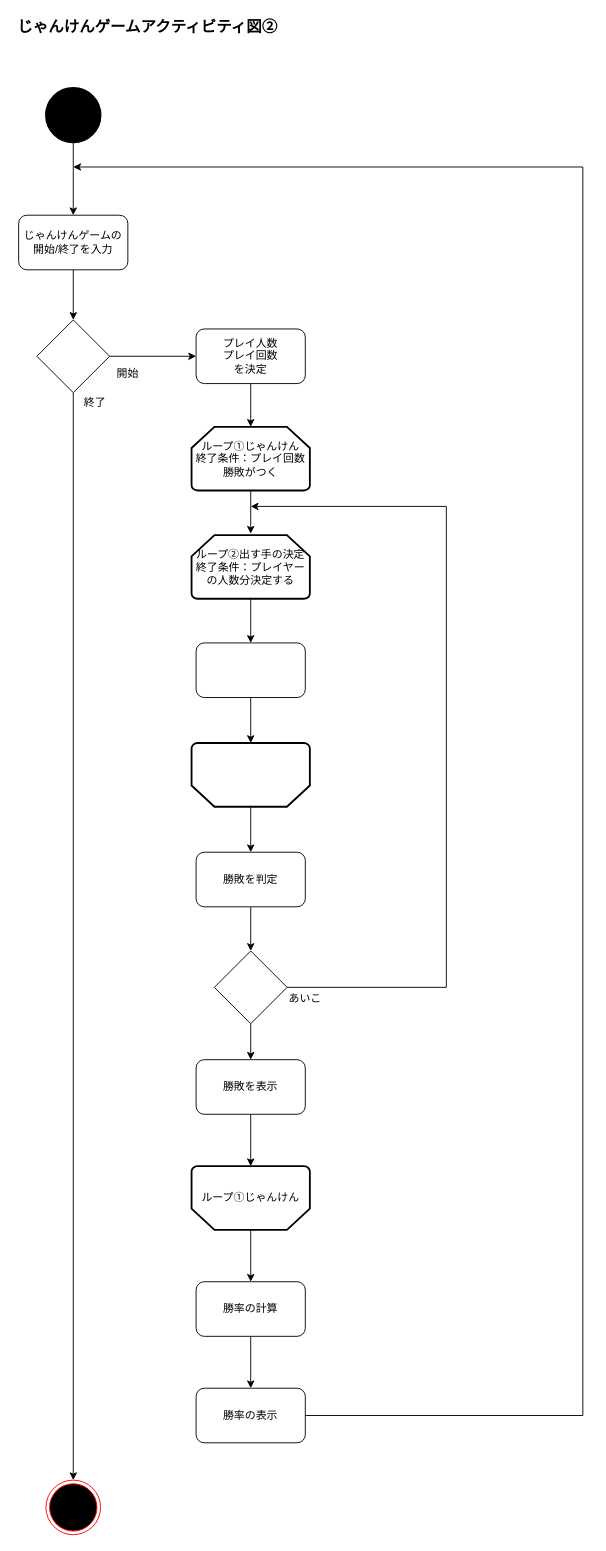
Some shapes in this 606 by 1551 pixel diagram are drawn without their labels. The centre of each missing label's shape, as x and y in pixels:
プレイヤーの 出す手を決定: pixel 250 670
ループ②出す手の決定: pixel 250 774
勝敗決定 or あいこ: pixel 250 987
開始 or 終了: pixel 73 356
